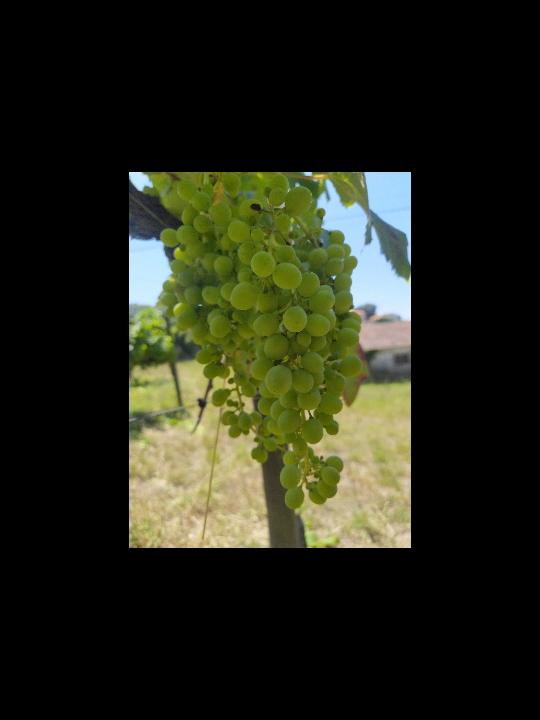grape: (158, 174, 365, 509)
